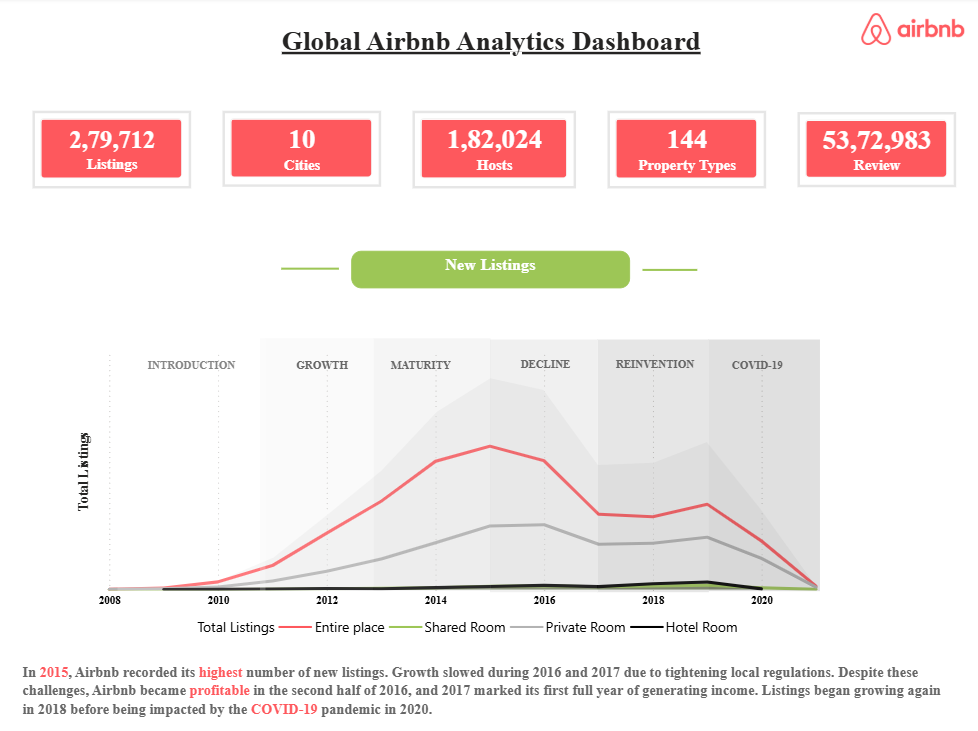

This screenshot's page, from the dashboard's own definition file:
{"tool":"powerbi","page":{"name":"Overview","canvas":[960,720],"ordinal":0},"visuals":[{"type":"textbox","box":[254.3,23.2,452.4,62.4],"z":0},{"type":"image","box":[842.5,8,101.1,46],"z":1000},{"type":"cardVisual","fields":{"Data":["Count(Listings.host_id)"]},"box":[403.5,110.9,160.2,75.8],"z":2000},{"type":"cardVisual","fields":{"Data":["Count(Listings.property_type)"]},"box":[594.3,110.9,155.3,75.8],"z":3000},{"type":"cardVisual","fields":{"Data":["Count(Reviews.review_id)"]},"box":[780.2,112.1,155.3,73.4],"z":4000},{"type":"cardVisual","fields":{"Data":["Count(Listings.city)"]},"box":[217.7,111.5,155.3,74.6],"z":5000},{"type":"cardVisual","fields":{"Data":["CountNonNull(Listings.listing_id)"]},"box":[31.8,110.9,155.3,75.8],"z":6000},{"type":"lineChart","fields":{"Category":["Listings.host_since.Variation.Date Hierarchy.Year"],"Y":["CountNonNull(Listings.listing_id)","Listings.Entire place","Listings.Shared Room","Listings.Private Room","Listings.Hotel Room"]},"box":[70.5,333.3,743.6,301.3],"z":7000},{"type":"textbox","box":[343.7,248.2,272.7,36.7],"z":8000},{"type":"shape","box":[275.6,191,56.4,150],"z":9000},{"type":"shape","box":[253.8,333.3,111.5,247.4],"z":10000},{"type":"shape","box":[365.4,333.3,114.1,247.4],"z":11000},{"type":"shape","box":[479.5,334.6,105.1,247.4],"z":12000},{"type":"shape","box":[584.6,334.6,109,247.4],"z":13000},{"type":"shape","box":[693.6,334.6,109,246.2],"z":14000},{"type":"textbox","box":[130.8,344.9,112.8,35.9],"z":15000},{"type":"shape","box":[628.2,192.3,53.8,150],"z":16000},{"type":"textbox","box":[270.5,344.9,89.7,34.6],"z":17000},{"type":"textbox","box":[365.4,344.9,92.3,29.5],"z":18000},{"type":"textbox","box":[483.3,343.6,101.3,32.1],"z":19000},{"type":"textbox","box":[588.5,343.6,105.1,29.5],"z":20000},{"type":"textbox","box":[706.4,344.9,67.9,35.9],"z":21000},{"type":"textbox","box":[16.7,646.2,919.2,74.4],"z":22000},{"type":"shape","box":[115.4,333.3,144.9,247.4],"z":23000}]}

Visuals, with their boxes in screenshot pixels (x1, y1, x2, y2), scaled from the page's 960x720 canvas onto the 978x731 screenshot:
textbox: select_region(259, 24, 720, 87)
image: select_region(858, 8, 961, 55)
cardVisual - Count(Listings.host_id): select_region(411, 113, 574, 190)
cardVisual - Count(Listings.property_type): select_region(605, 113, 764, 190)
cardVisual - Count(Reviews.review_id): select_region(795, 114, 953, 188)
cardVisual - Count(Listings.city): select_region(222, 113, 380, 189)
cardVisual - CountNonNull(Listings.listing_id): select_region(32, 113, 191, 190)
lineChart - Listings.host_since.Variation.Date Hierarchy.Year x CountNonNull(Listings.listing_id): select_region(72, 338, 829, 644)
textbox: select_region(350, 252, 628, 289)
shape: select_region(281, 194, 338, 346)
shape: select_region(259, 338, 372, 590)
shape: select_region(372, 338, 488, 590)
shape: select_region(488, 340, 596, 591)
shape: select_region(596, 340, 707, 591)
shape: select_region(707, 340, 818, 590)
textbox: select_region(133, 350, 248, 387)
shape: select_region(640, 195, 695, 348)
textbox: select_region(276, 350, 367, 385)
textbox: select_region(372, 350, 466, 380)
textbox: select_region(492, 349, 596, 381)
textbox: select_region(600, 349, 707, 379)
textbox: select_region(720, 350, 789, 387)
textbox: select_region(17, 656, 953, 730)
shape: select_region(118, 338, 265, 590)
